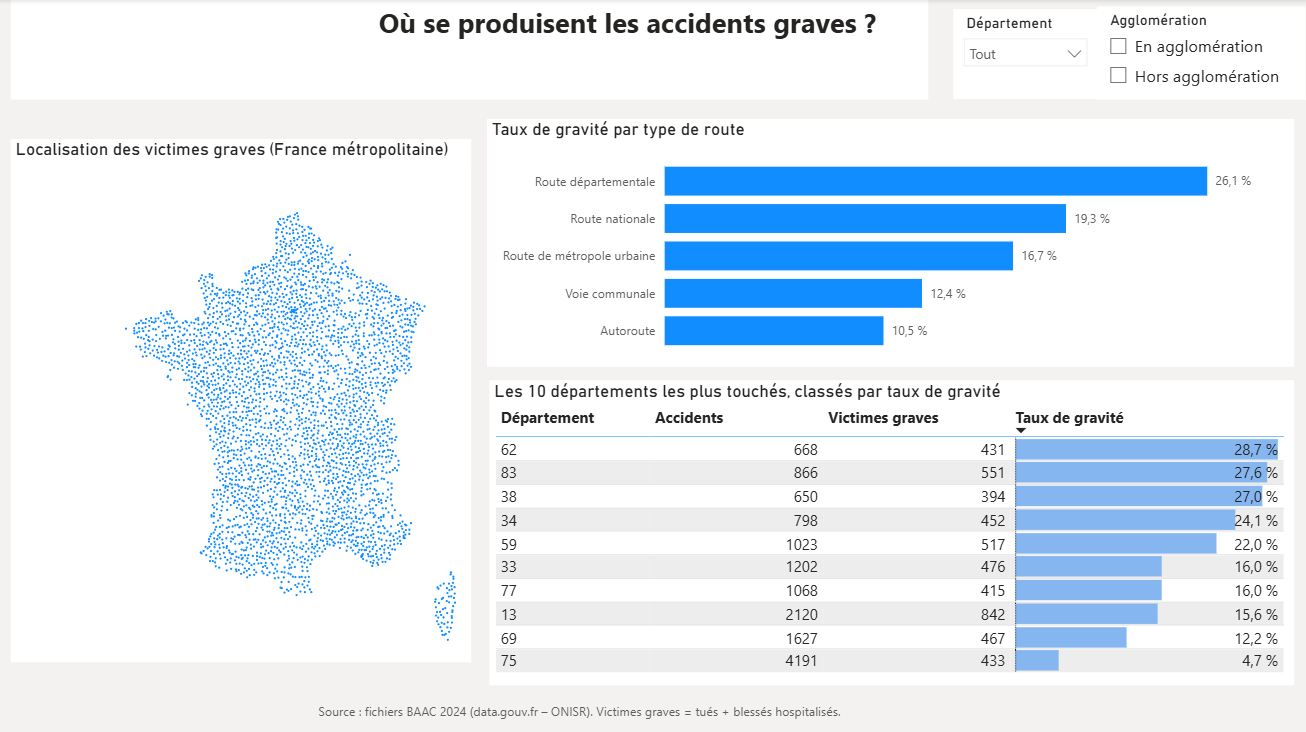

Layout of this report page (visuals, bound fields, positions):
{"tool":"powerbi","page":{"name":"Où ?","canvas":[1280,720],"ordinal":1},"visuals":[{"type":"slicer","fields":{"Values":["accidents_2024_clean.agglomeration"]},"box":[1075.9,7.3,204.1,91],"z":0},{"type":"slicer","fields":{"Values":["accidents_2024_clean.departement"]},"box":[935.3,10.3,141,88.1],"z":1000},{"type":"textbox","box":[12.8,0,897.8,98.5],"z":2000},{"type":"textbox","box":[99.9,682.3,939.2,37.1],"z":3000},{"type":"scatterChart","title":"Localisation des victimes graves (France métropolitaine)","fields":{"Category":["accidents_2024_clean.id_usager"],"X":["Avg(accidents_2024_clean.longitude)"],"Y":["Avg(accidents_2024_clean.latitude)"]},"box":[13.5,137,450,512.4],"z":4000},{"type":"clusteredBarChart","title":"Taux de gravité par type de route","fields":{"Category":["accidents_2024_clean.type_route"],"Y":["_Mesures.Taux de gravité"]},"box":[479.4,117.4,789.9,242.1],"z":4001},{"type":"tableEx","title":"Les 10 départements les plus touchés, classés par taux de gravité","fields":{"Values":["accidents_2024_clean.departement","_Mesures.Accidents","_Mesures.Victimes graves","_Mesures.Taux de gravité"]},"box":[481.8,373,787.5,298.4],"z":4002}]}

Visuals, with their boxes in screenshot pixels (x1, y1, x2, y2), scaled from the page's 1280x720 canvas onto the 1306x732 screenshot:
slicer - accidents_2024_clean.agglomeration: 1098,7,1305,100
slicer - accidents_2024_clean.departement: 954,10,1098,100
textbox: 13,0,929,100
textbox: 102,694,1060,731
"Localisation des victimes graves (France métropolitaine)" scatterChart: 14,139,473,660
"Taux de gravité par type de route" clusteredBarChart: 489,119,1295,365
"Les 10 départements les plus touchés, classés par taux de gravité" tableEx: 492,379,1295,683
